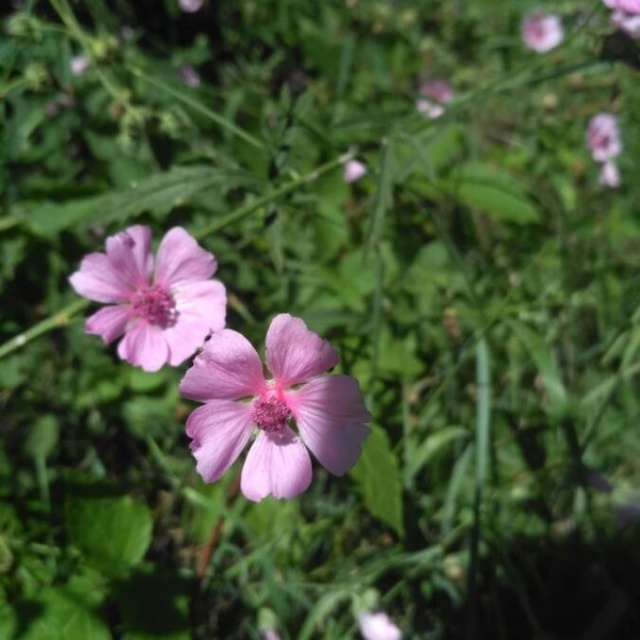obstacle: (44, 172, 589, 599)
